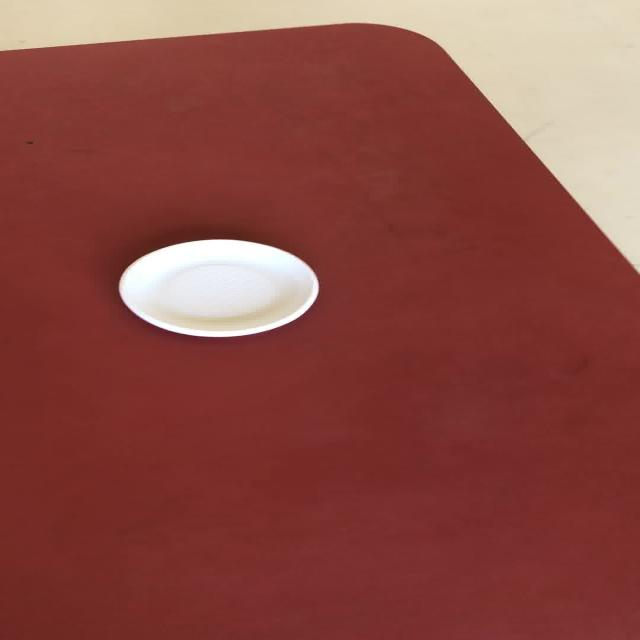plate: (116, 238, 318, 338)
